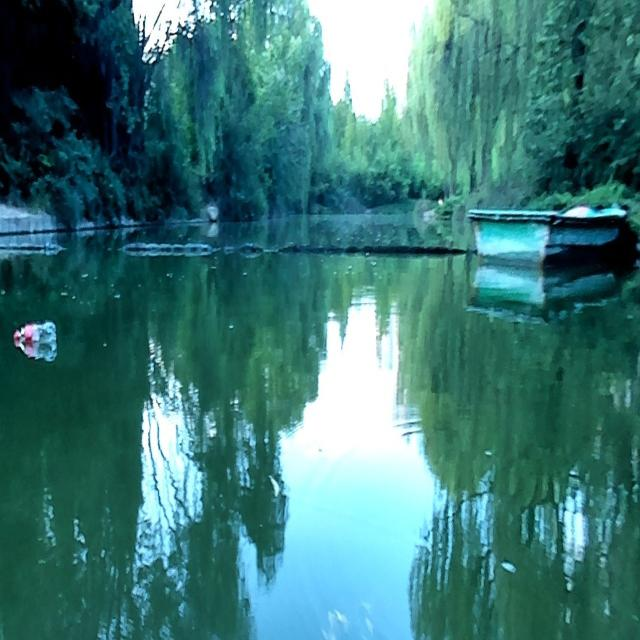bottle: (13, 318, 55, 344)
